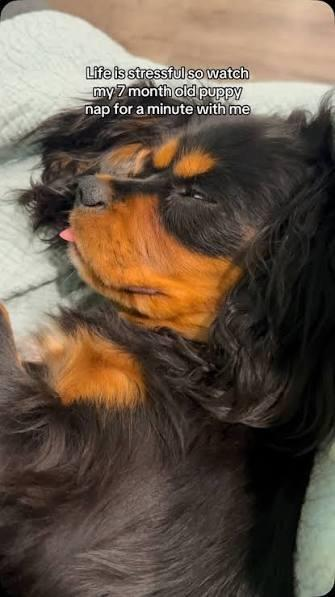puppy-dog: (0, 103, 335, 597)
